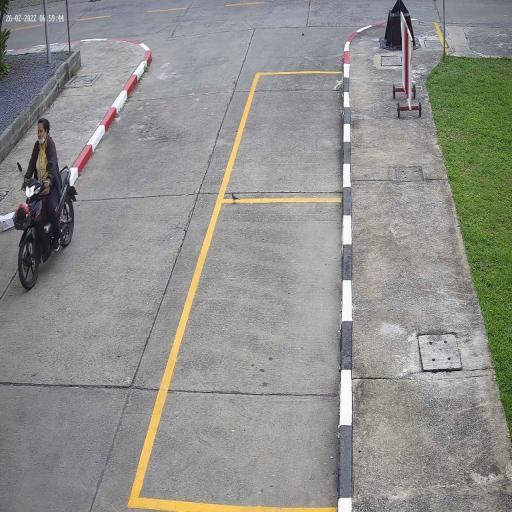motorcycle: (12, 176, 78, 290)
